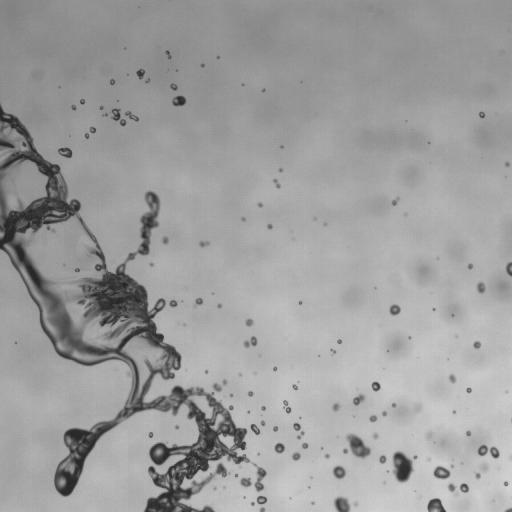droplet: (390, 451, 417, 483), (343, 433, 370, 458), (333, 496, 350, 511), (427, 498, 446, 511), (251, 496, 266, 511), (433, 466, 450, 479), (332, 465, 346, 479), (172, 95, 186, 106), (243, 336, 257, 347), (58, 147, 72, 157), (353, 393, 364, 405), (389, 304, 400, 315), (274, 442, 284, 453), (250, 424, 260, 434), (476, 282, 485, 293), (371, 381, 380, 391), (480, 462, 488, 472), (136, 69, 144, 78), (194, 298, 202, 307), (245, 318, 253, 326), (332, 403, 340, 411), (292, 452, 300, 460), (273, 179, 280, 188), (449, 374, 456, 383), (415, 403, 422, 412), (199, 241, 209, 247), (392, 197, 399, 205), (169, 300, 177, 307), (473, 341, 481, 348), (369, 415, 377, 422), (379, 455, 386, 463), (170, 83, 177, 90), (162, 237, 168, 244), (372, 433, 378, 439), (474, 472, 480, 478), (479, 112, 485, 117), (292, 384, 297, 390), (260, 420, 265, 426), (426, 432, 431, 438), (302, 443, 308, 448), (257, 202, 262, 207), (267, 224, 272, 229), (466, 387, 471, 392), (248, 391, 253, 396), (148, 432, 153, 437), (110, 79, 114, 84), (80, 99, 84, 104), (468, 264, 472, 269), (382, 411, 386, 416), (174, 425, 179, 429), (273, 426, 277, 431), (466, 431, 470, 436), (72, 105, 76, 109), (505, 162, 509, 166), (241, 217, 245, 221), (149, 262, 153, 266), (217, 304, 221, 308), (337, 339, 341, 343), (331, 349, 335, 353), (392, 403, 396, 407), (261, 406, 265, 410), (325, 454, 329, 458), (504, 481, 508, 485), (103, 113, 107, 116), (279, 168, 282, 172), (273, 367, 277, 370), (229, 393, 232, 397), (100, 106, 103, 109), (354, 502, 357, 505), (201, 64, 203, 67), (146, 79, 148, 82), (311, 502, 314, 504), (262, 89, 264, 91), (299, 302, 301, 304), (247, 411, 249, 413), (453, 411, 455, 413), (428, 458, 430, 460), (451, 465, 453, 467), (235, 474, 237, 476), (214, 487, 216, 489)
ligament: (0, 103, 265, 511), (477, 444, 499, 458), (111, 108, 125, 126), (447, 483, 469, 494), (293, 422, 304, 439), (84, 126, 95, 138), (125, 111, 138, 121), (74, 263, 88, 272), (283, 400, 291, 413), (505, 262, 511, 276), (165, 50, 170, 58), (504, 507, 511, 511), (510, 455, 511, 460)
